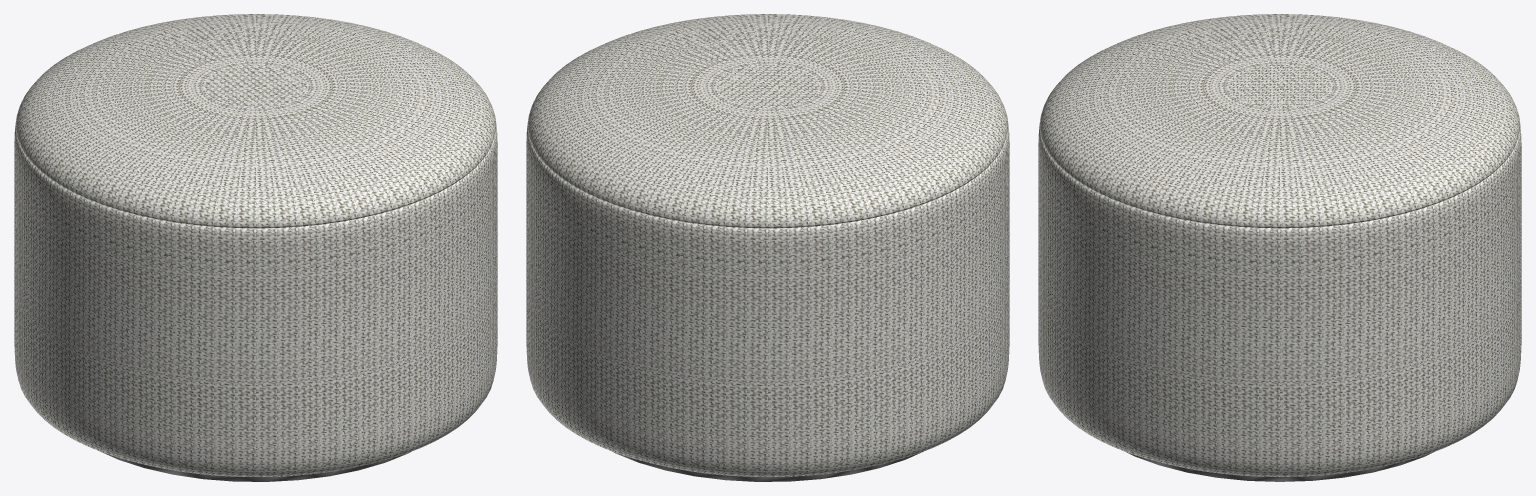
The model's file is pouf.glb.
3 renders of one model, left to right at view 1: azimuth 30°, elevation 25°; view 2: azimuth 150°, elevation 25°; view 3: azimuth 270°, elevation 25°, orthographic.
Parts seen in each view (by area): view 1: Пуф; view 2: Пуф; view 3: Пуф.
Boxes of the visible parts, x1,y1,x2,y2 form: Пуф: (14, 14, 497, 481); Пуф: (526, 14, 1009, 481); Пуф: (1038, 14, 1521, 481).
Bounding box in the file's own units: 57.36 × 40.46 × 57.36.
Materials: 2 (1 with a texture image).
